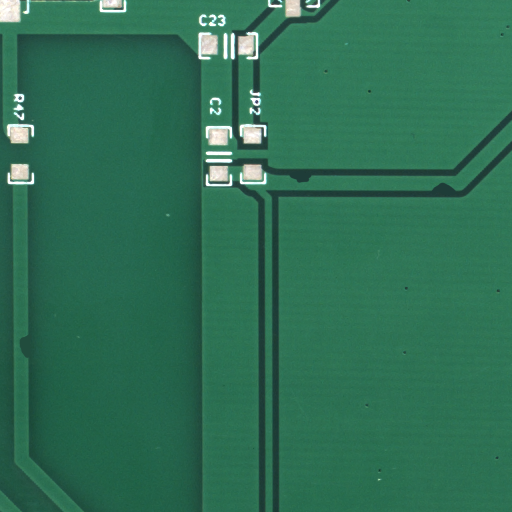Mouse_bite: (301, 176, 333, 196), (444, 188, 475, 207), (24, 346, 41, 378)
